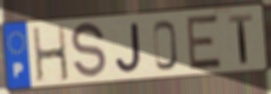0: (152, 19, 180, 73)
E: (186, 12, 224, 72)
H: (31, 24, 71, 85)
J: (114, 20, 143, 75)
S: (70, 20, 108, 82)
T: (226, 13, 254, 66)
